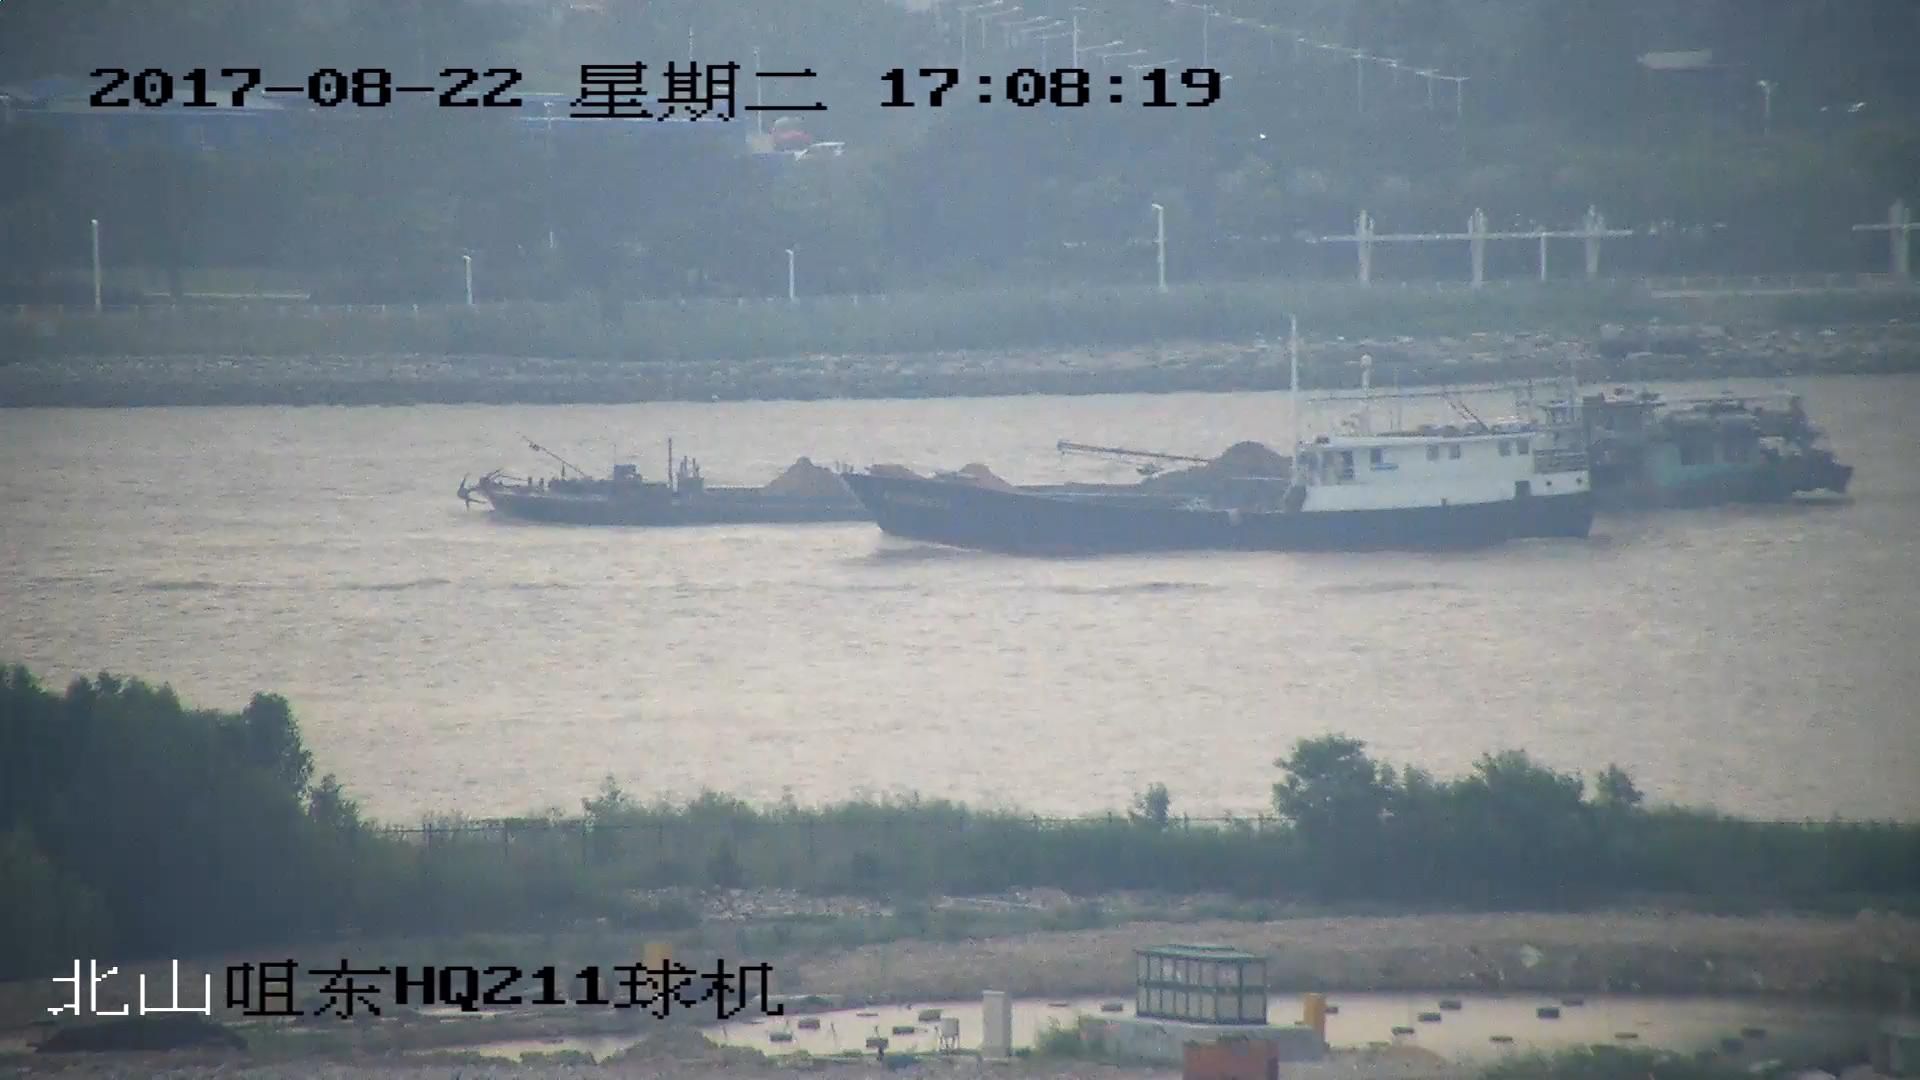fishing boat: (846, 393, 1599, 554)
ore carrier: (463, 385, 1853, 523)
